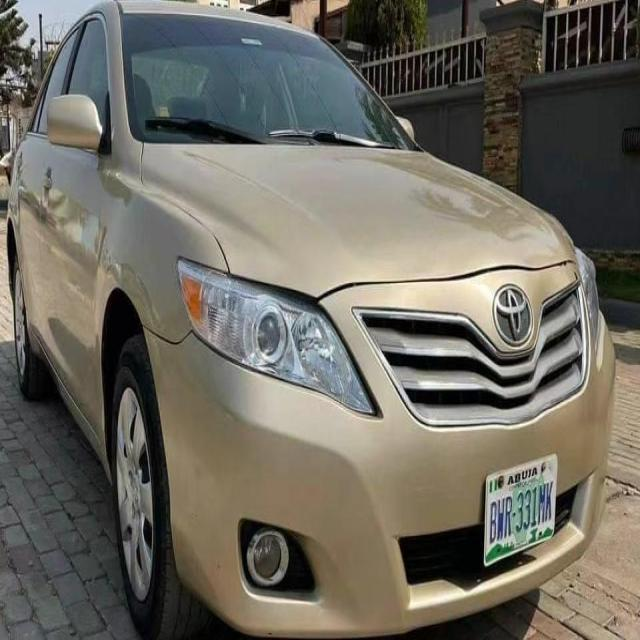Nigerian License Plate - vdataset benjamin-daria: (485, 455, 560, 565)
